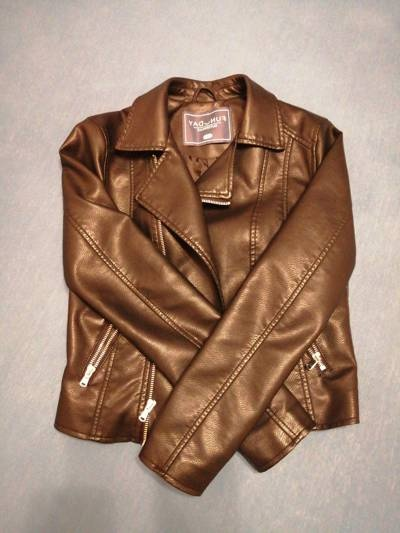Blazer: (41, 78, 375, 485)
